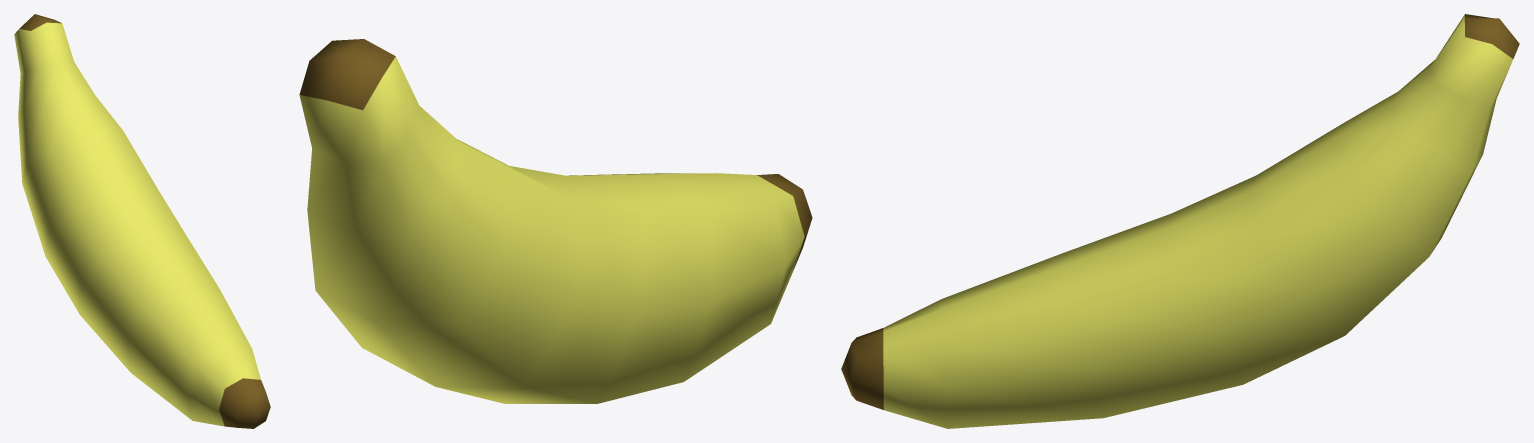
The model's file is Banana.fbx.
The picture shows the model from 3 angles, left to right: view 1: azimuth 30°, elevation 25°; view 2: azimuth 150°, elevation 25°; view 3: azimuth 270°, elevation 25°; orthographic projection. The views are drawn at different scales.
Parts seen in each view (by area): view 1: Banana; view 2: Banana; view 3: Banana.
Boxes of the visible parts, x1,y1,x2,y2 form: Banana: (14, 14, 270, 428); Banana: (299, 39, 812, 403); Banana: (841, 14, 1519, 428).
Bounding box in the file's own units: 11.12 × 27.98 × 42.97.
